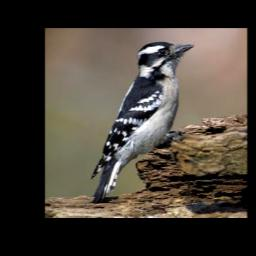Woodpecker: (90, 39, 194, 206)
